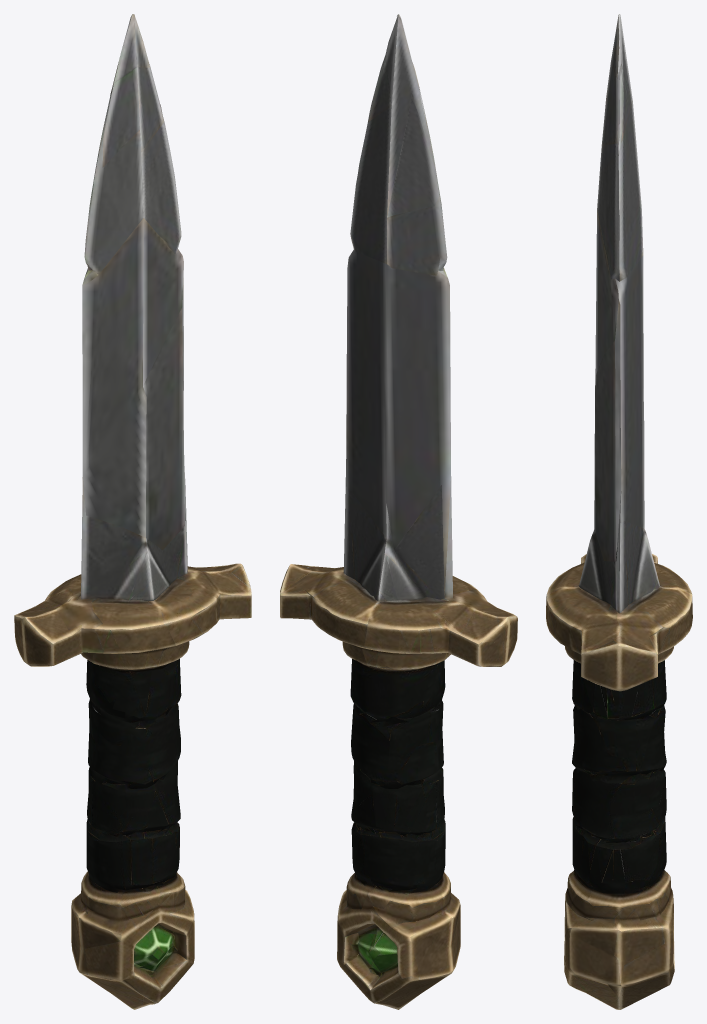
Rendered from whisperbolt_dagger.glb.
3 renders of one model, left to right at view 1: azimuth 30°, elevation 25°; view 2: azimuth 150°, elevation 25°; view 3: azimuth 270°, elevation 25°, orthographic.
Bounding box in the file's own units: 0.2798 × 1.21 × 0.1612.
Materials: 1 (1 with a texture image).
